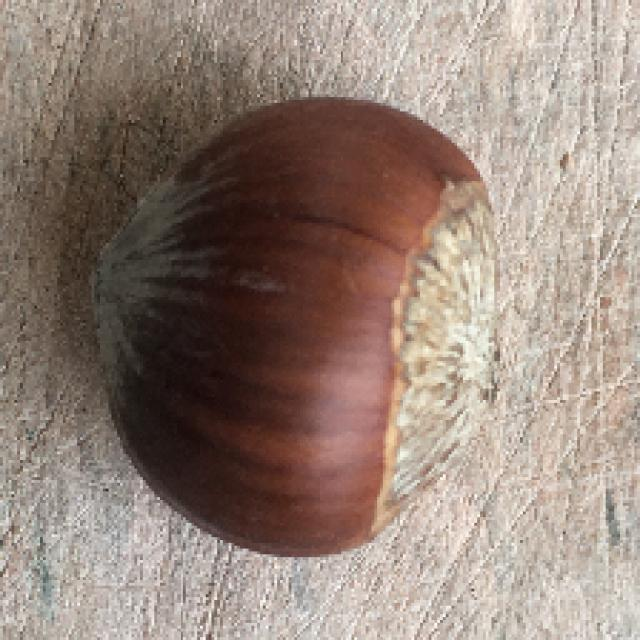qualityHazelnut: (86, 88, 505, 562)
